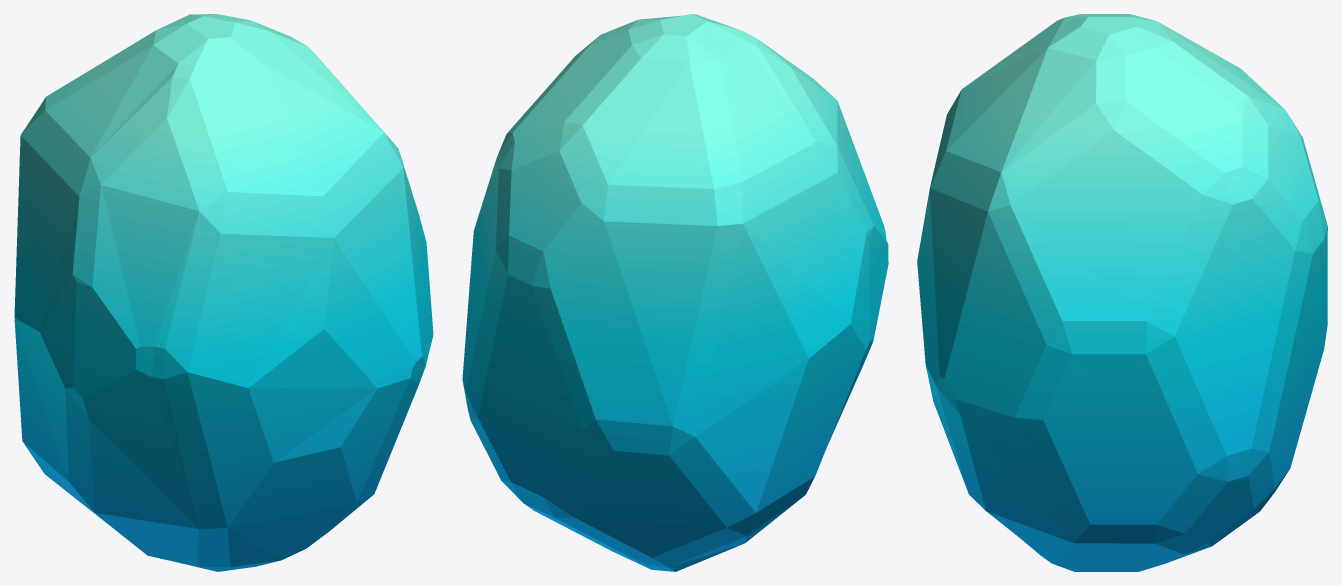
Rendered from ArcStone.fbx.
3 views of the same model, side by side, from view 1: azimuth 30°, elevation 25°; view 2: azimuth 150°, elevation 25°; view 3: azimuth 270°, elevation 25° (orthographic).
Parts seen in each view (by area): view 1: Icosphere; view 2: Icosphere; view 3: Icosphere.
Boxes of the visible parts, <box> form: Icosphere: <box>14,14,433,571</box>; Icosphere: <box>462,14,888,571</box>; Icosphere: <box>917,14,1327,571</box>.
Bounding box in the file's own units: 40.16 × 56.95 × 40.27.
Materials: 1 (1 with a texture image).
